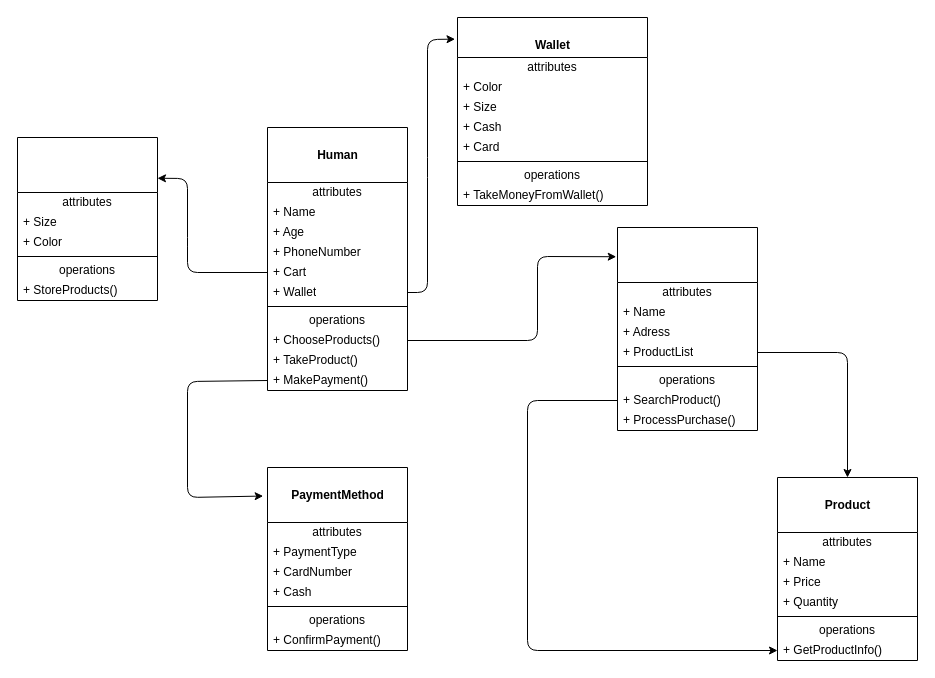
This 935x678 diagram has some shape labels left out. Here are the shapes that lost their labels. From the top down, the box of each, then its label:
(16, 136, 158, 300): Cart
(616, 226, 758, 430): Store
